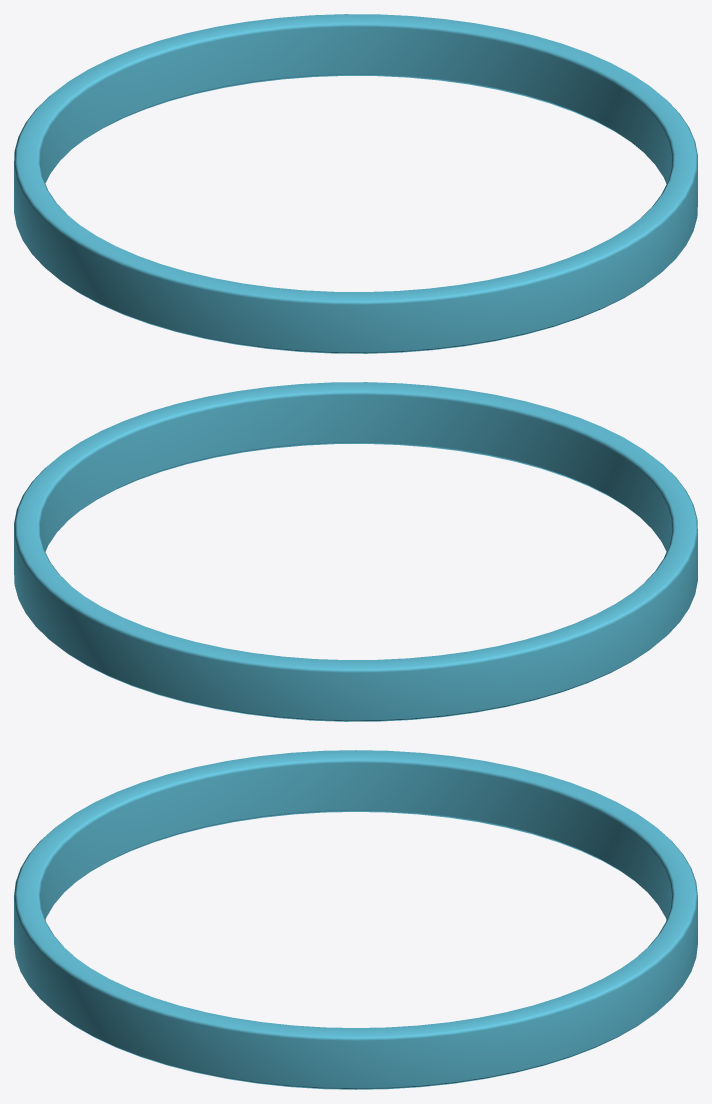
3 views of the same model, one above another, from view 1: azimuth 30°, elevation 25°; view 2: azimuth 150°, elevation 25°; view 3: azimuth 270°, elevation 25° (orthographic).
Parts seen in each view (by area): view 1: seal_body; view 2: seal_body; view 3: seal_body.
Part boxes in pixels (box(x1,y1,x2,y2)): seal_body: box(14, 14, 697, 353); seal_body: box(14, 382, 697, 721); seal_body: box(14, 750, 697, 1089).
Bounding box in the file's own units: 0.1651 × 0.0143 × 0.1651.
